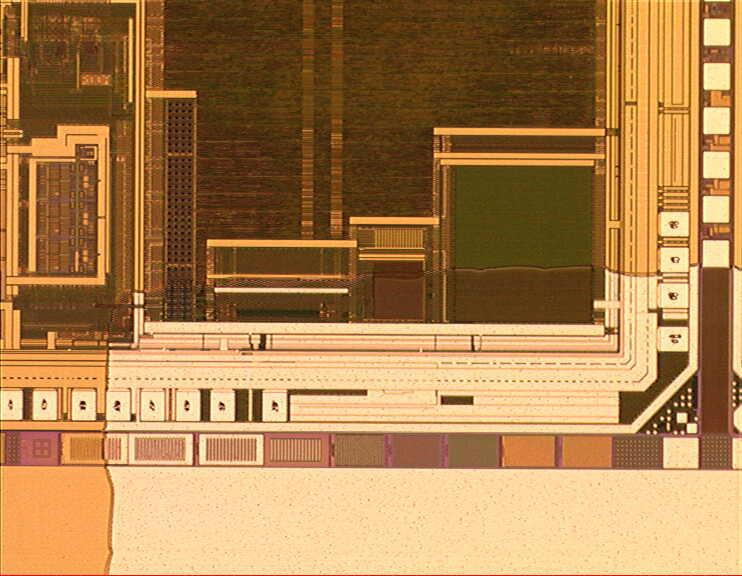COATING BAD: (99, 261, 742, 576)
